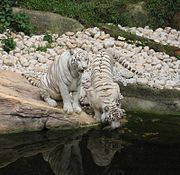Tigre: (91, 55, 131, 127)
